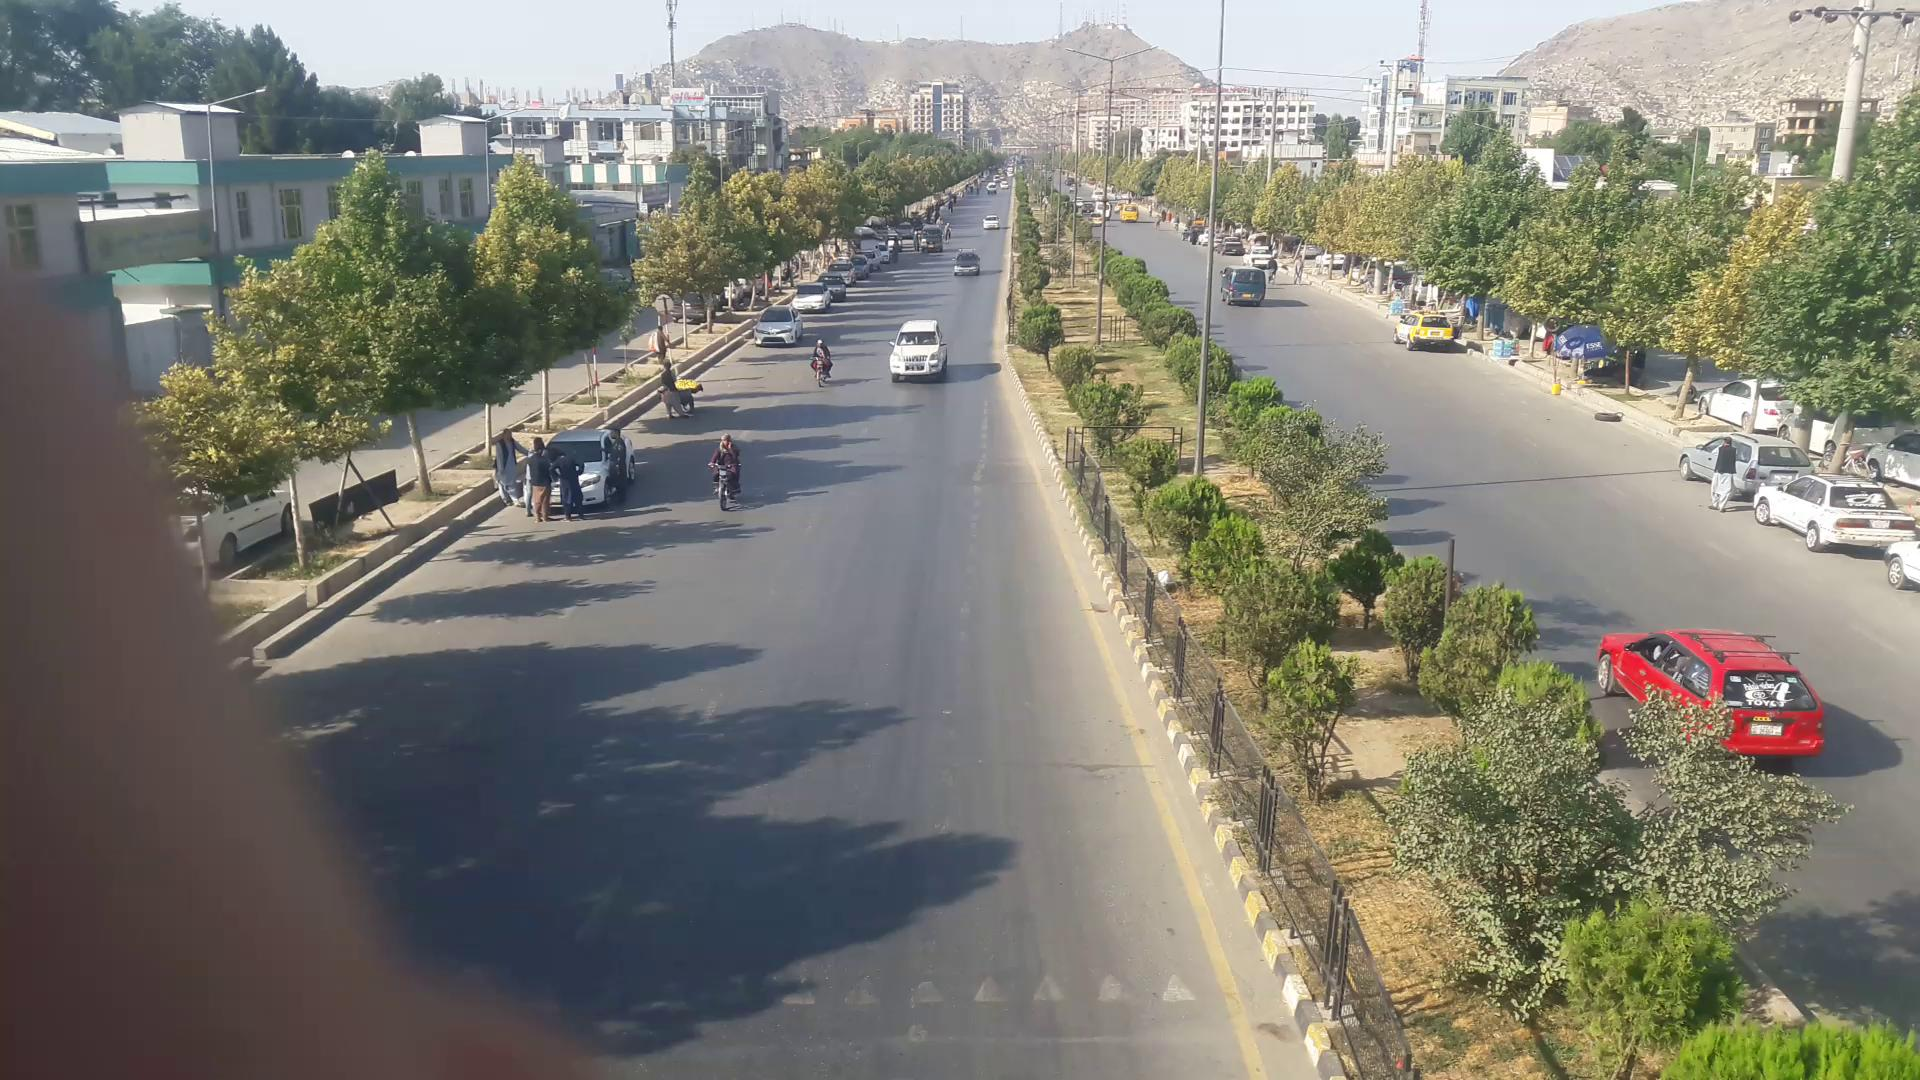bus: (1218, 265, 1270, 305)
car: (1598, 620, 1828, 764), (1760, 477, 1915, 555), (1697, 434, 1826, 510), (889, 319, 945, 381), (1391, 311, 1453, 349), (760, 313, 804, 347), (794, 284, 831, 310), (951, 249, 982, 274), (819, 273, 847, 298)
